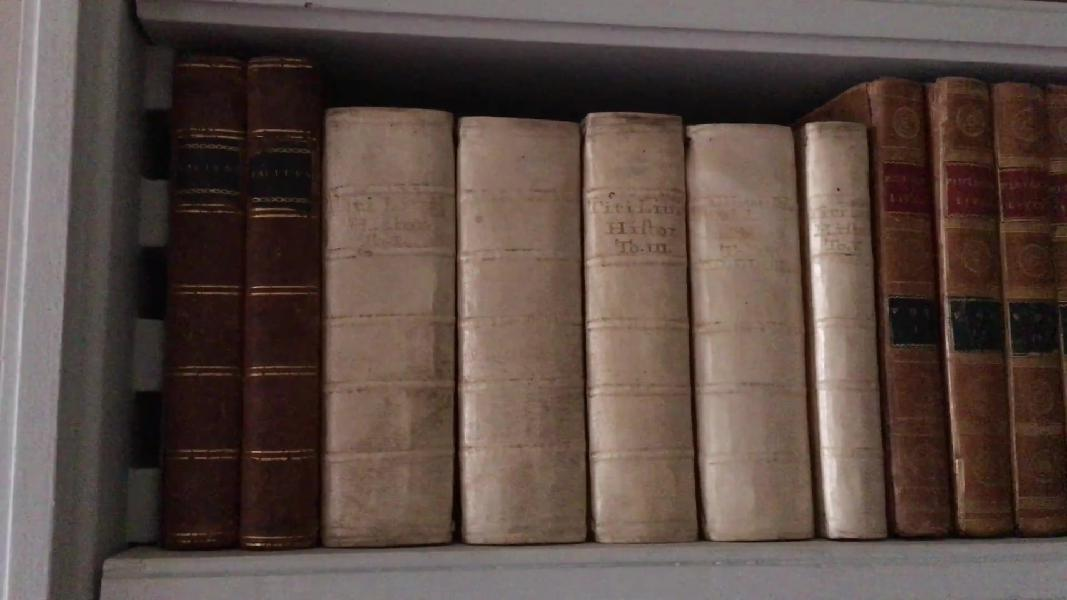Kk4-1_2: (154, 35, 340, 558)
Kk4-3_7: (306, 78, 901, 551)
Kk4-8_13: (861, 73, 1067, 546)
